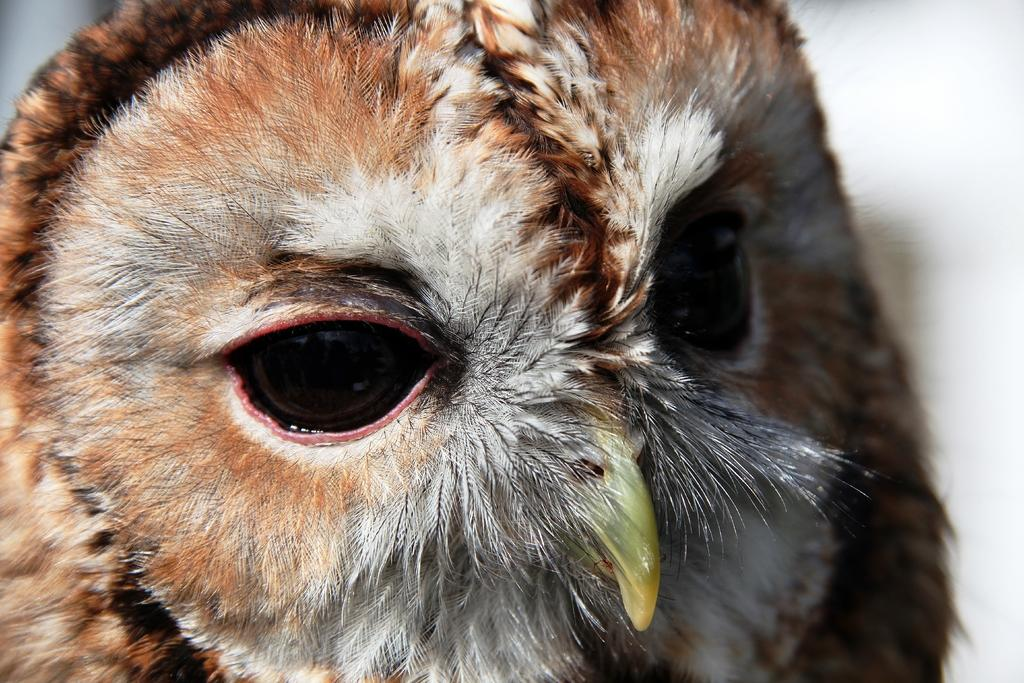Owl: (0, 0, 980, 682)
